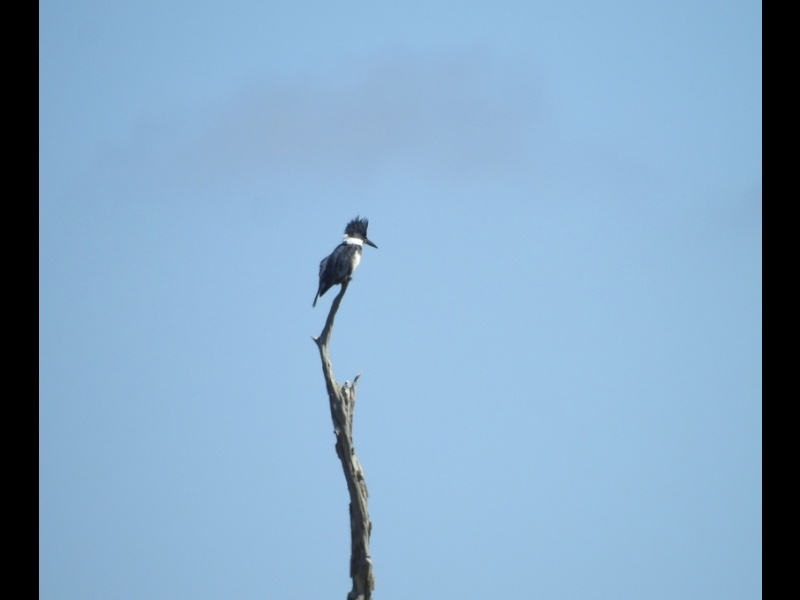kingfisher: (309, 214, 378, 308)
